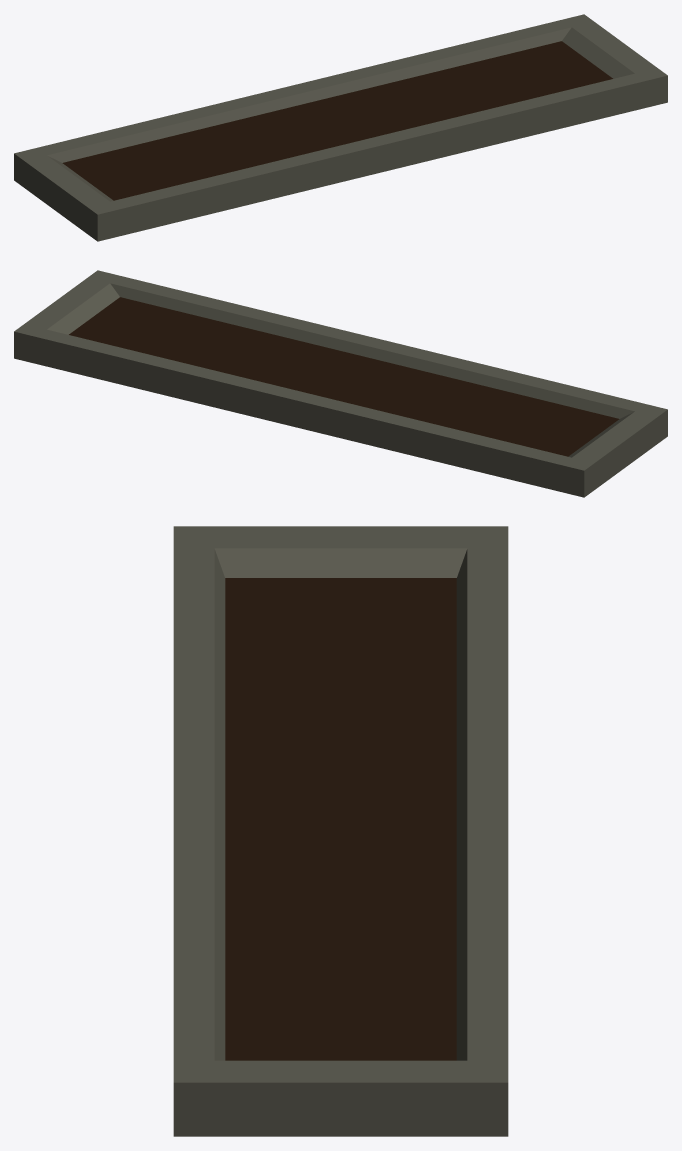
File: FlowerBed2.glb
The picture shows the model from 3 angles, top to bottom: view 1: azimuth 30°, elevation 25°; view 2: azimuth 150°, elevation 25°; view 3: azimuth 270°, elevation 25°; orthographic projection. The views are drawn at different scales.
Visible parts, largest first — view 1: FlowerBed2; view 2: FlowerBed2; view 3: FlowerBed2.
Boxes of the visible parts, box(x1,y1,x2,y2) form: FlowerBed2: box(14, 14, 667, 241); FlowerBed2: box(14, 270, 667, 497); FlowerBed2: box(173, 526, 508, 1136).
Size of the model in its own units: 4.66 by 0.2107 by 1.18.
